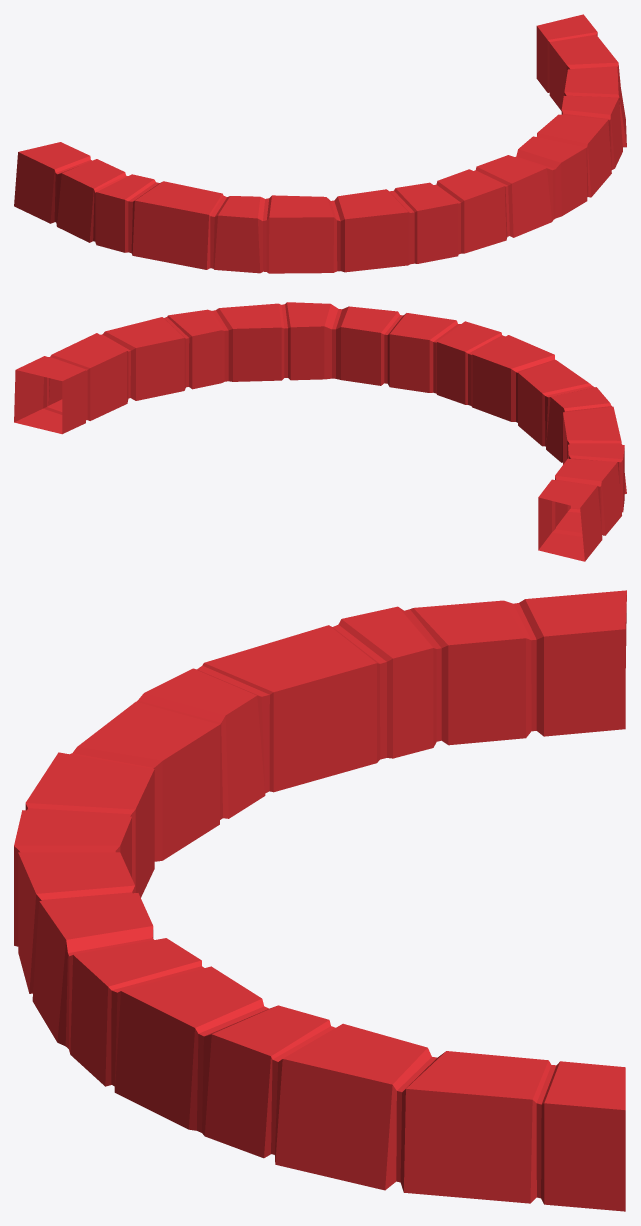
The model's file is 红砖下.fbx.
3 renders of one model, top to bottom at view 1: azimuth 30°, elevation 25°; view 2: azimuth 150°, elevation 25°; view 3: azimuth 270°, elevation 25°, orthographic. The views are drawn at different scales.
Parts seen in each view (by area): view 1: Half.stone.down; view 2: Half.stone.down; view 3: Half.stone.down.
Part boxes in pixels (x1=…): Half.stone.down: x1=14, y1=14, x2=626, y2=273; Half.stone.down: x1=14, y1=302, x2=626, y2=561; Half.stone.down: x1=14, y1=590, x2=626, y2=1211.
Bounding box in the file's own units: 295 × 26.3 × 146.
